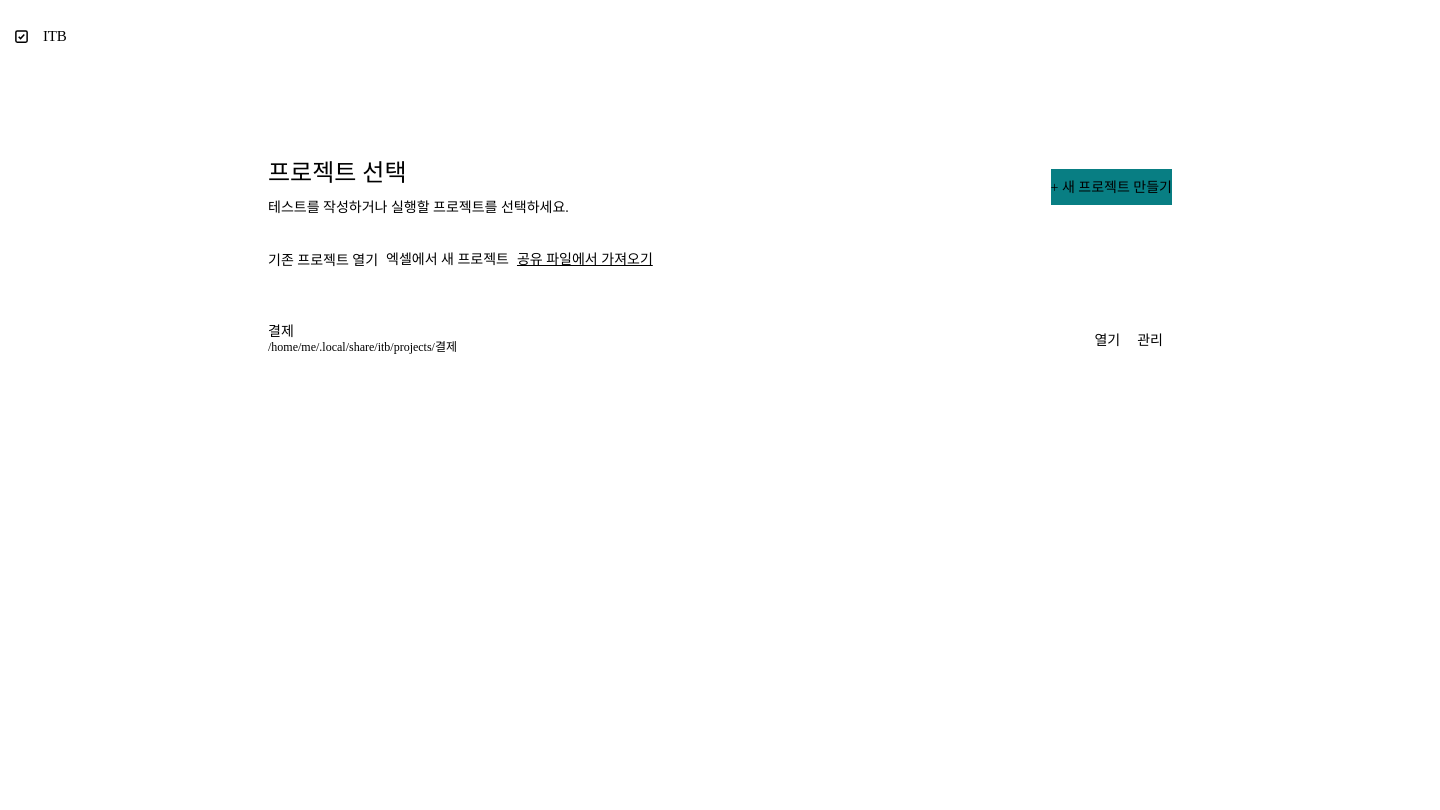
Test: 이름 인라인 편집 (US1) › Esc 는 원래 이름으로 되돌리고 요청하지 않는다
Click the button "관리" at coordinates (1150, 340), box [1128,322,1172,358]
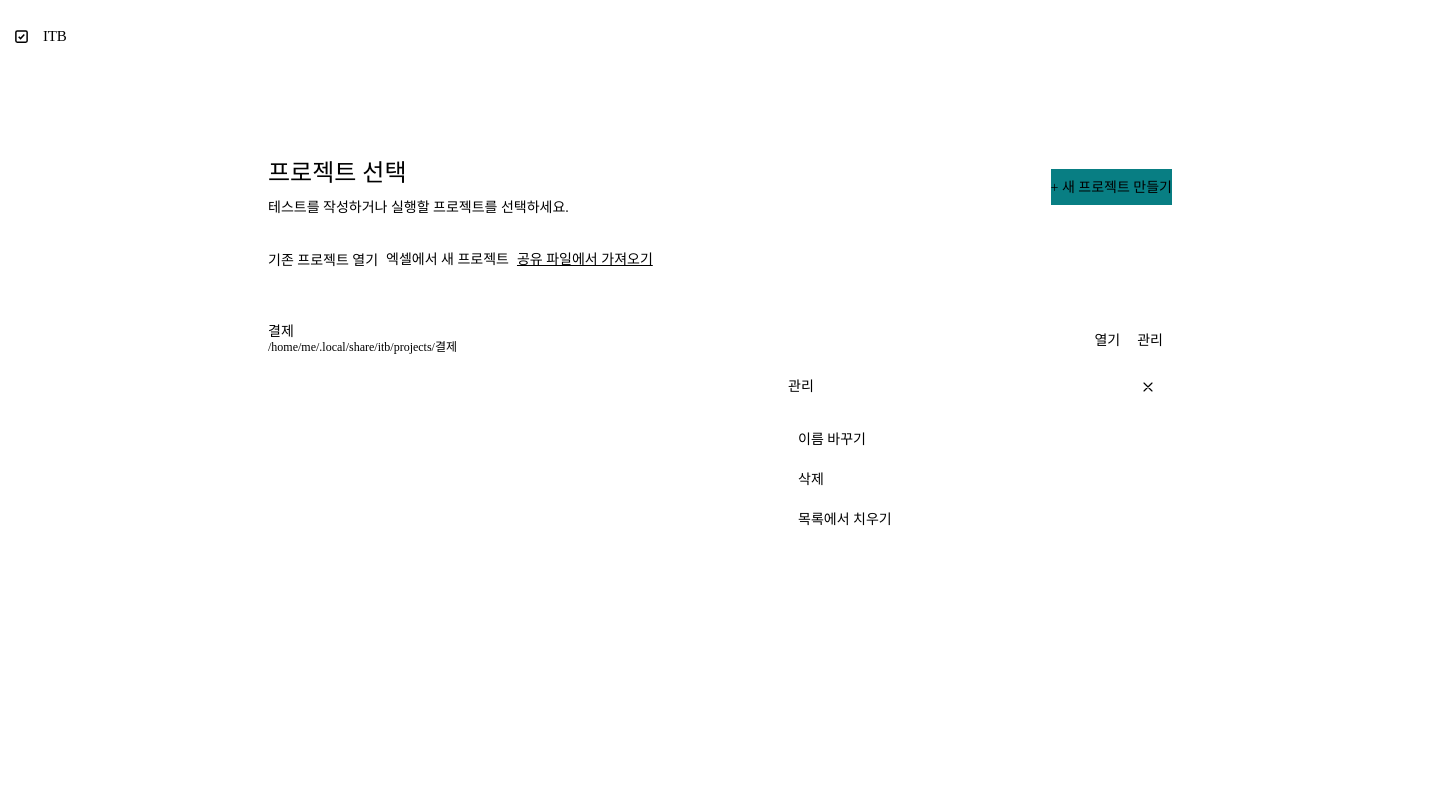
Click the button "이름 바꾸기" at coordinates (832, 439), box [788,425,1156,453]
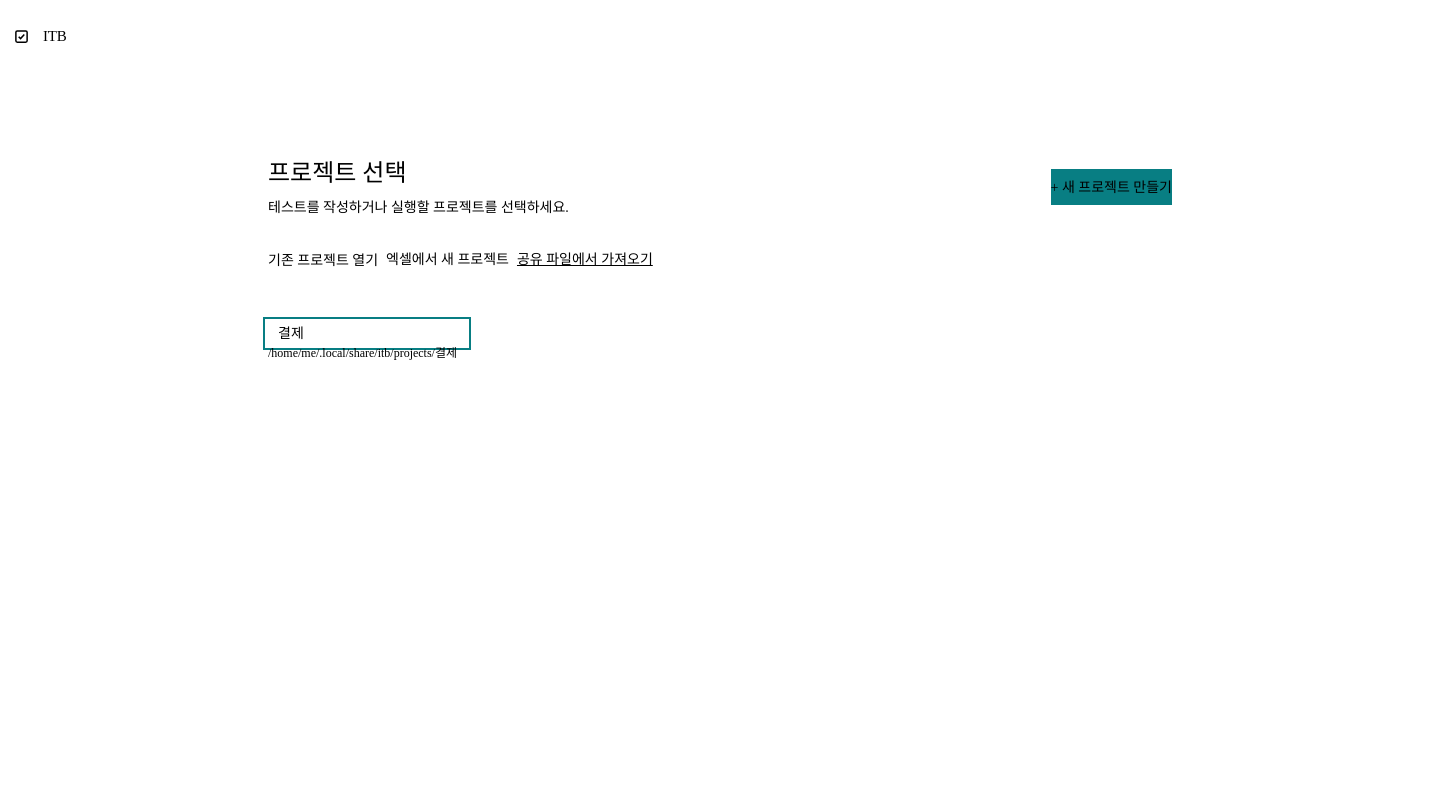
Replace the text in the field named "프로젝트 이름" with "버릴 이름" at coordinates (367, 334), box [268,322,466,345]
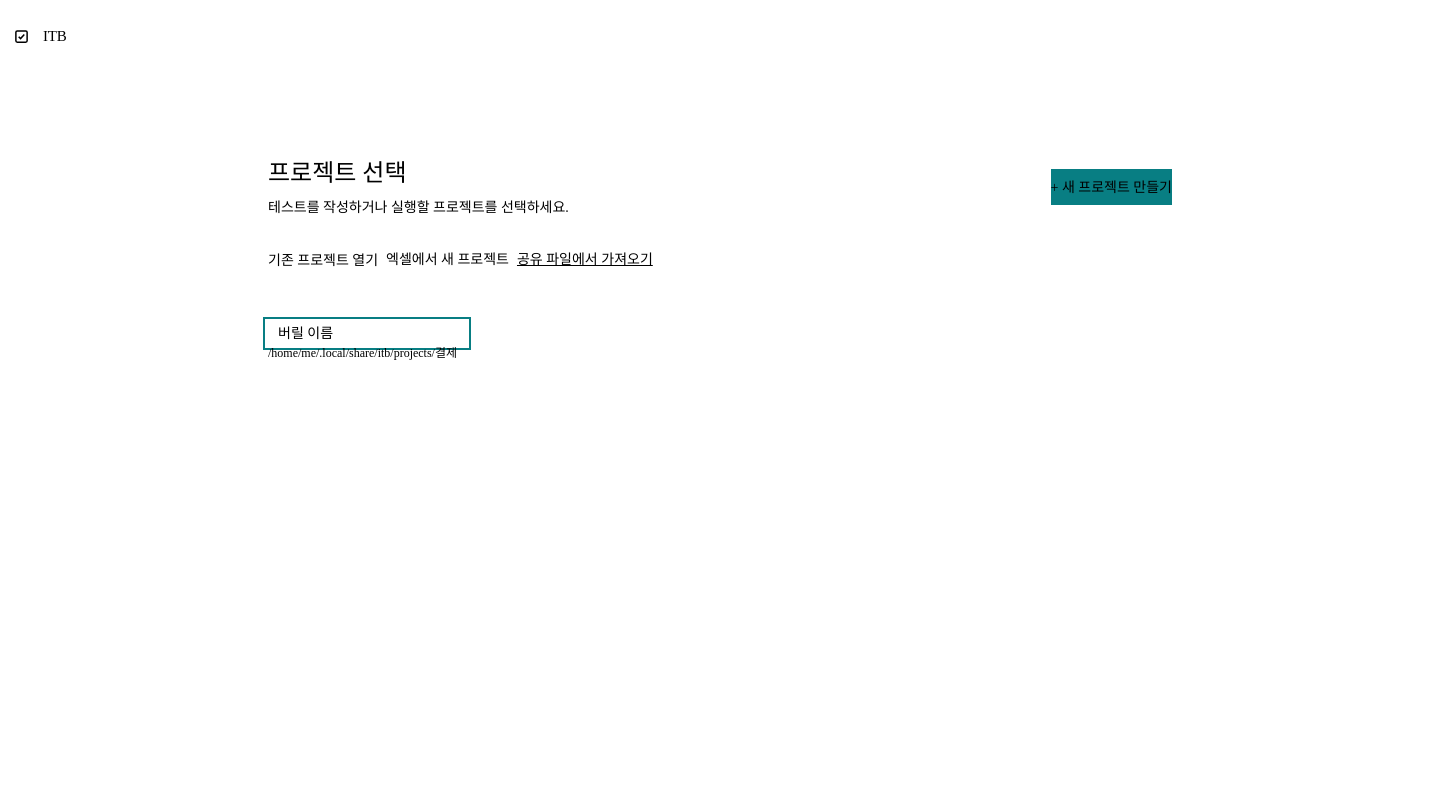
Press Escape in the field named "프로젝트 이름", box [268,322,466,345]
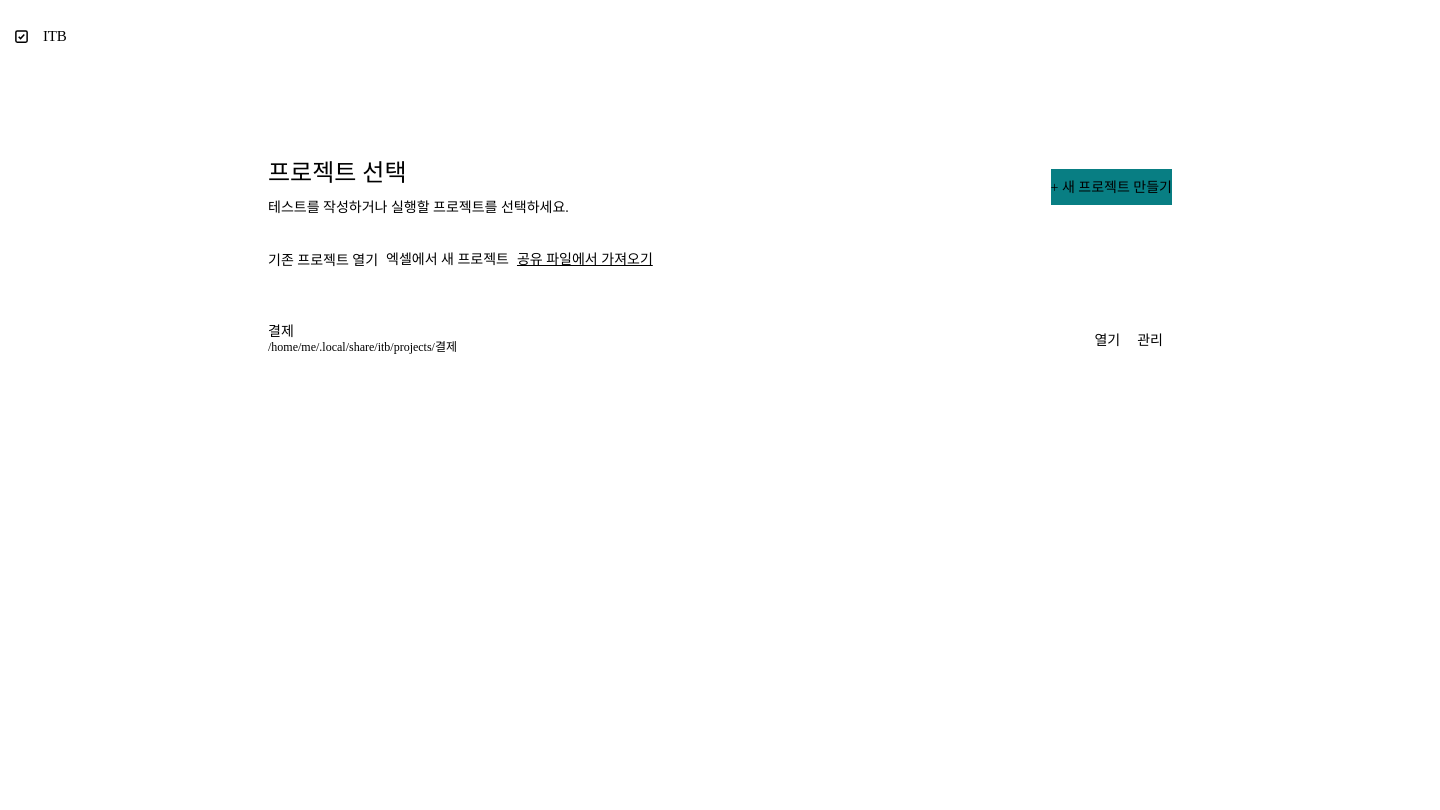
Check: the text "결제" is shown, box [268,325,294,339]
